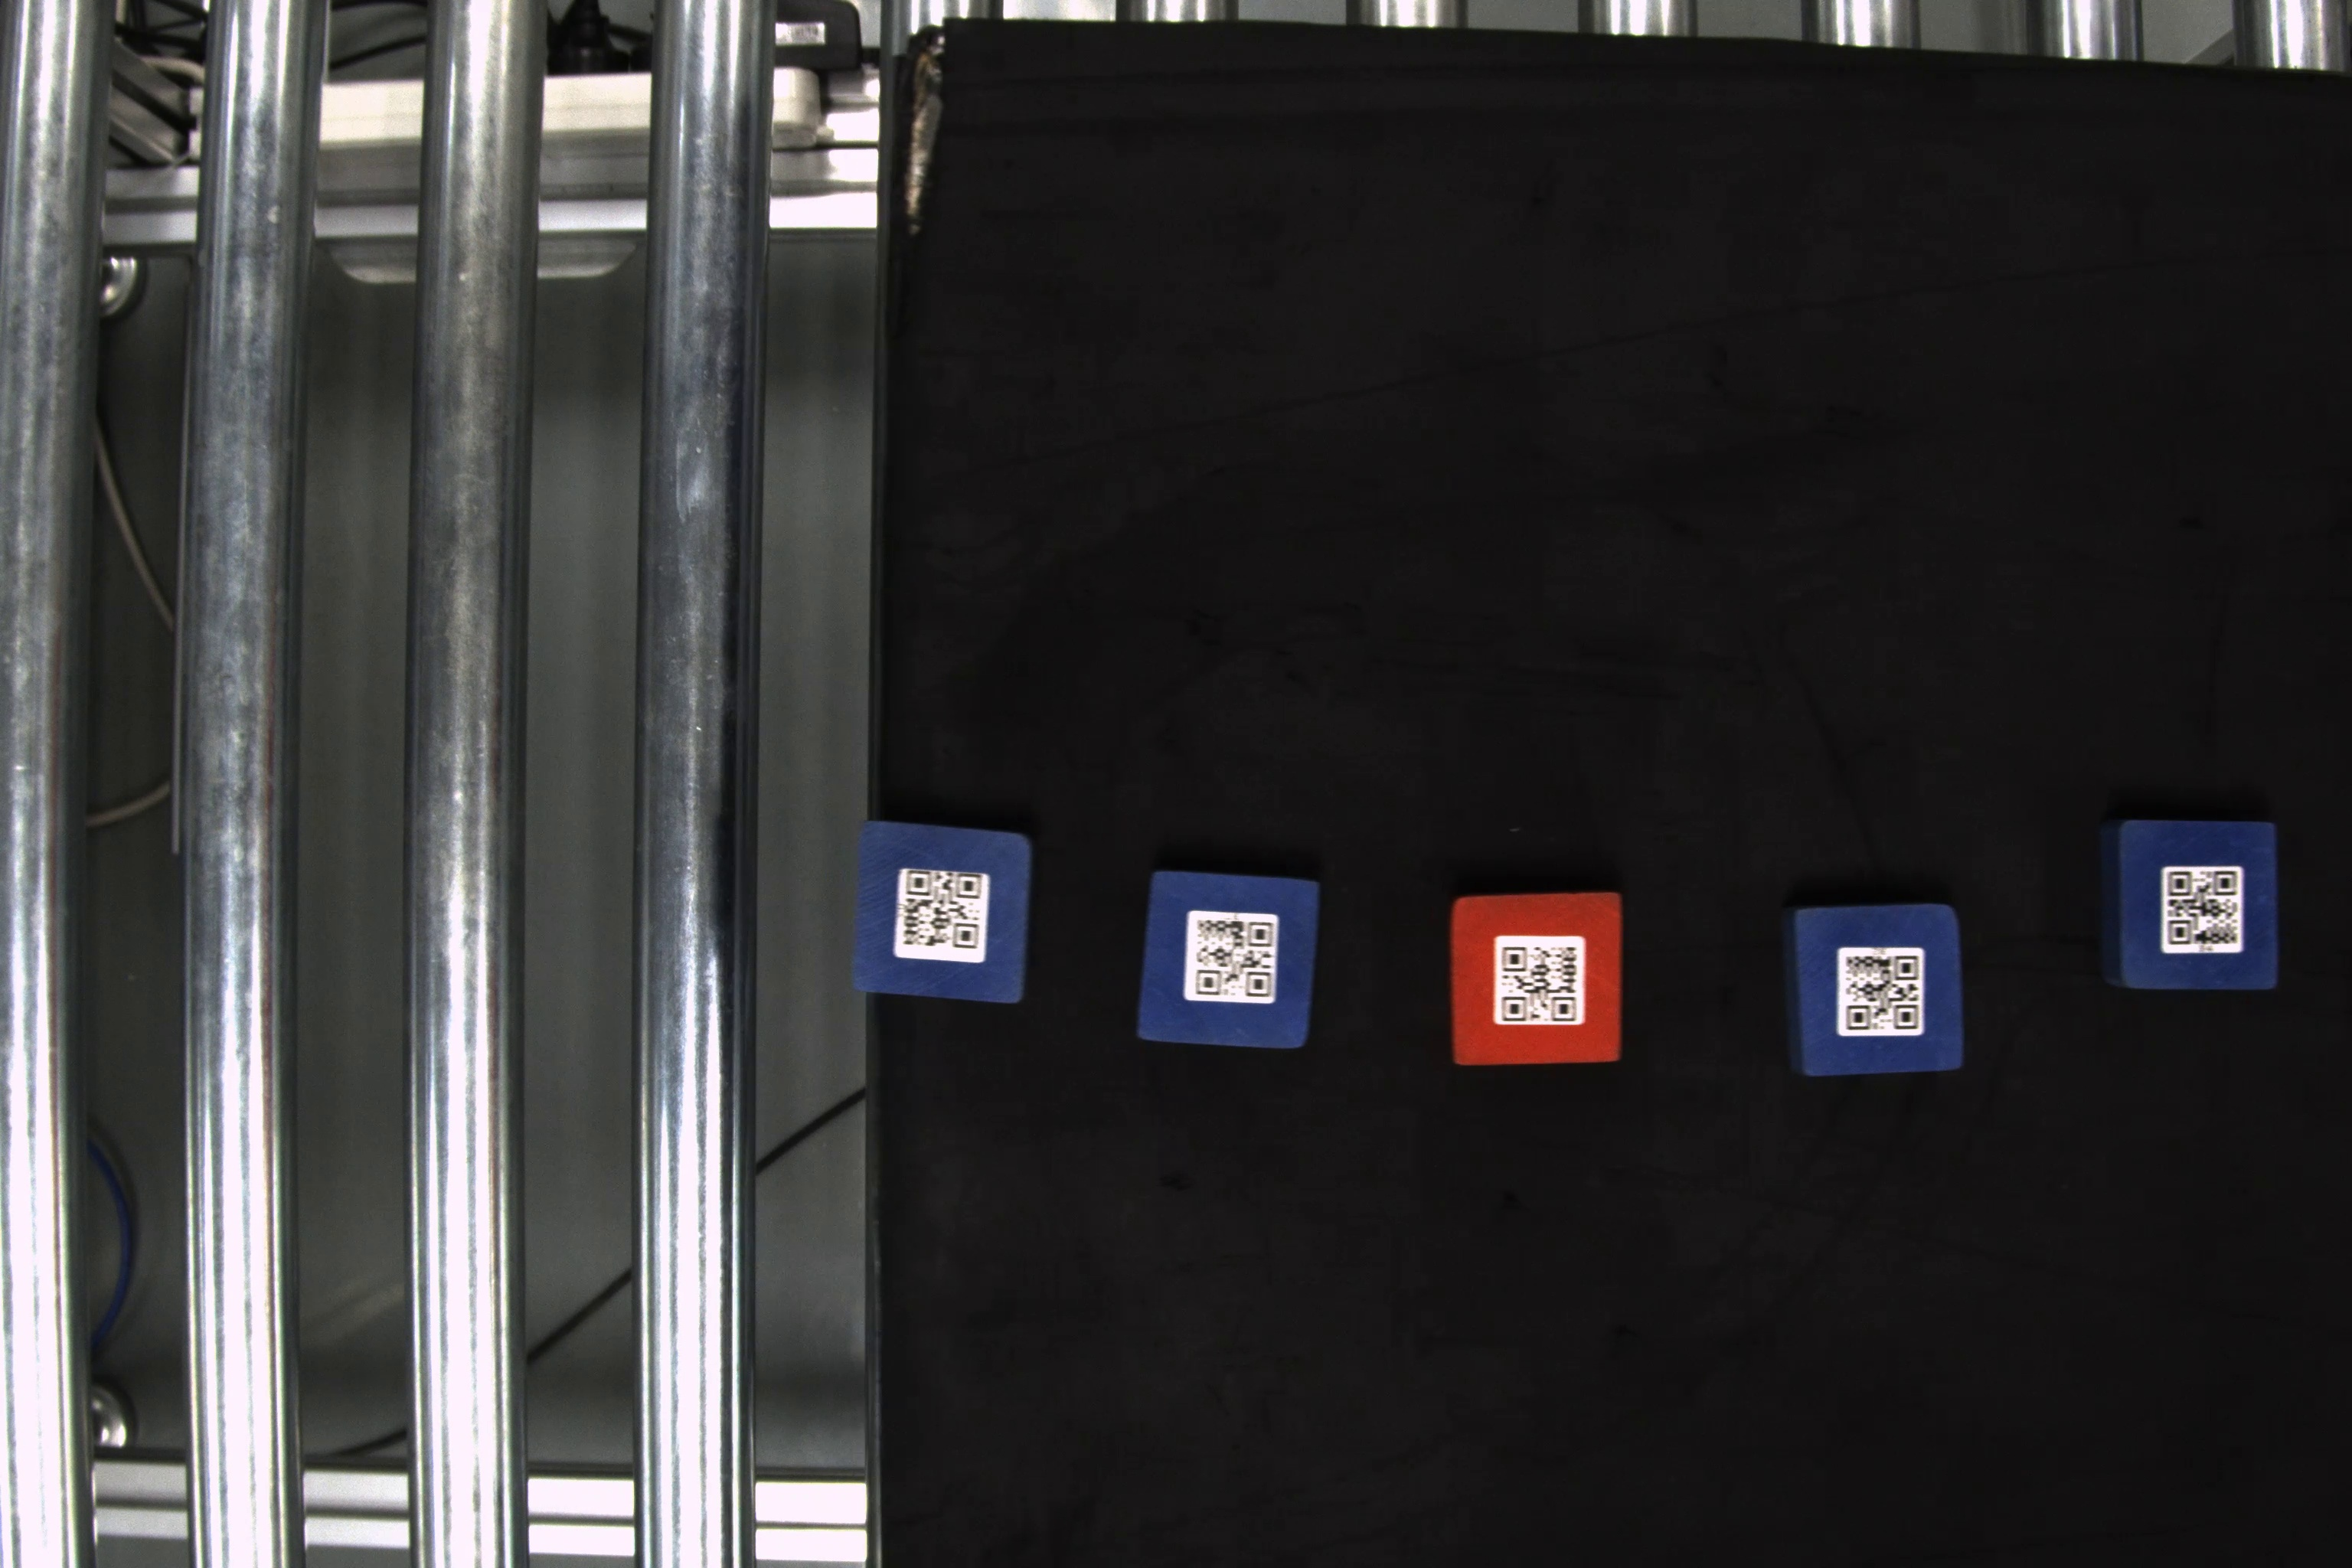wood: (2096, 814, 2285, 994), (852, 815, 1029, 1004), (1781, 903, 1972, 1078), (1137, 870, 1325, 1045), (1451, 891, 1629, 1073)
